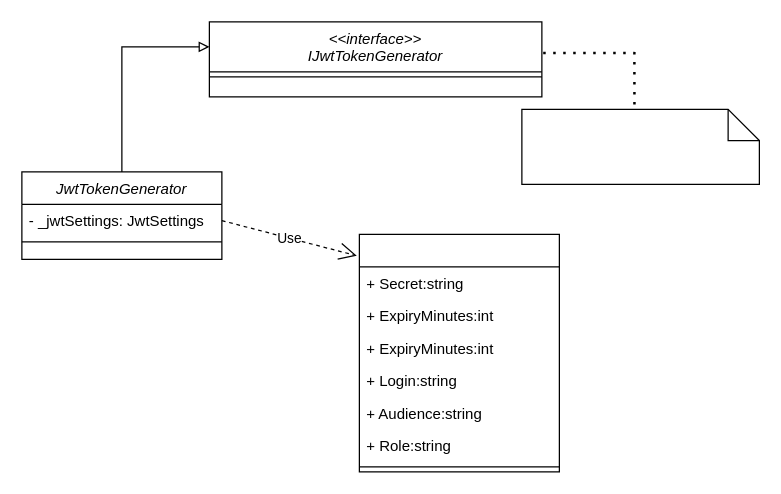
This 781x494 diagram has some shape labels left out. Each missing label, with the box of its shape:
From Application Layer: (521, 108, 759, 184)
JwtSettings: (358, 233, 559, 472)
